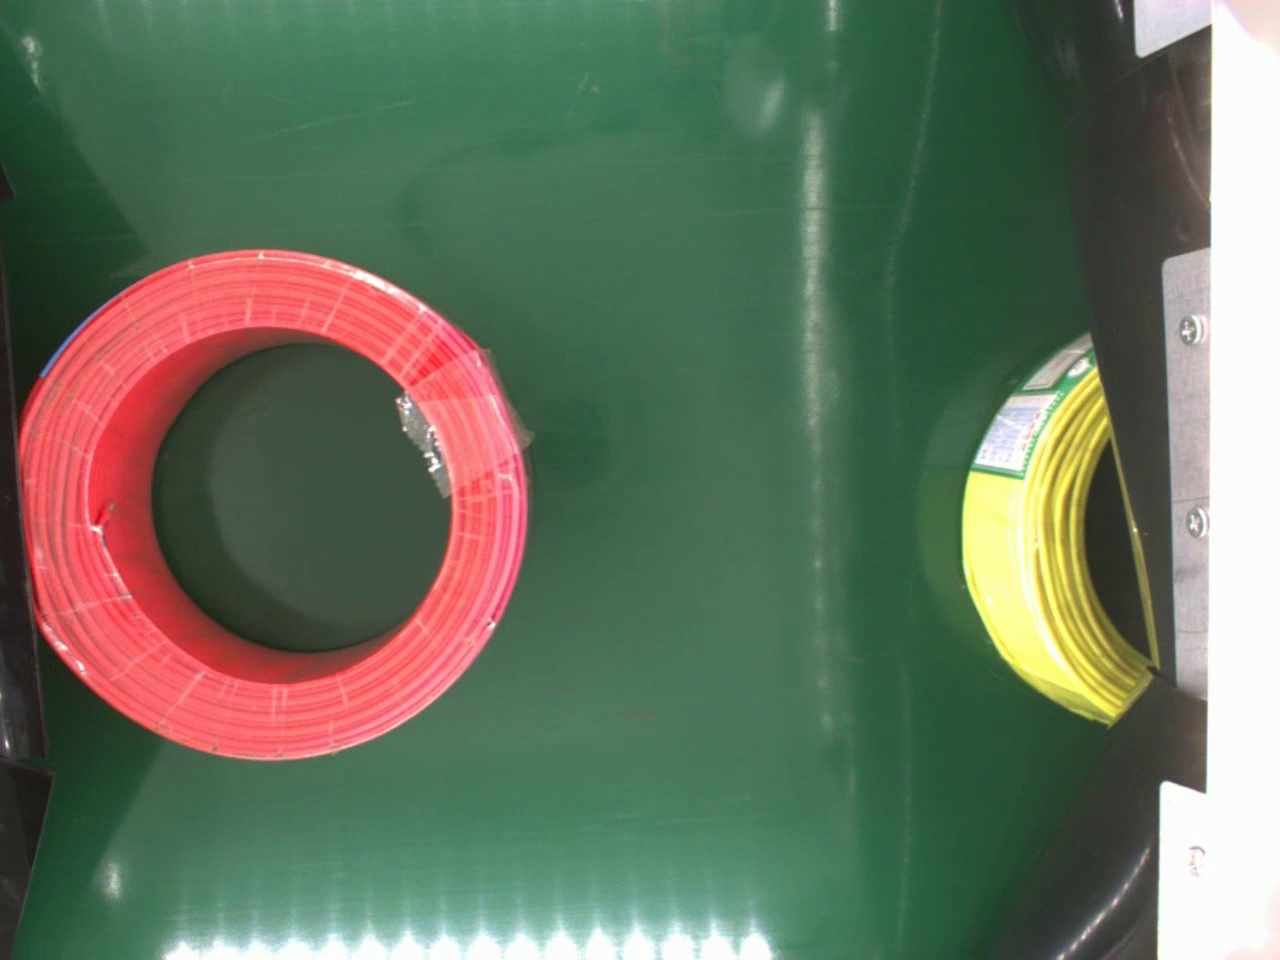red: (23, 237, 533, 754)
yellow: (957, 330, 1152, 730)
